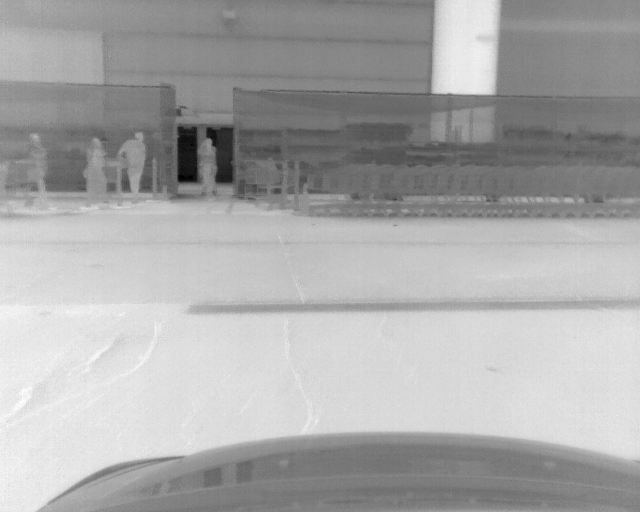people: (83, 137, 111, 208), (118, 131, 143, 204), (25, 132, 48, 211), (197, 138, 219, 197)
